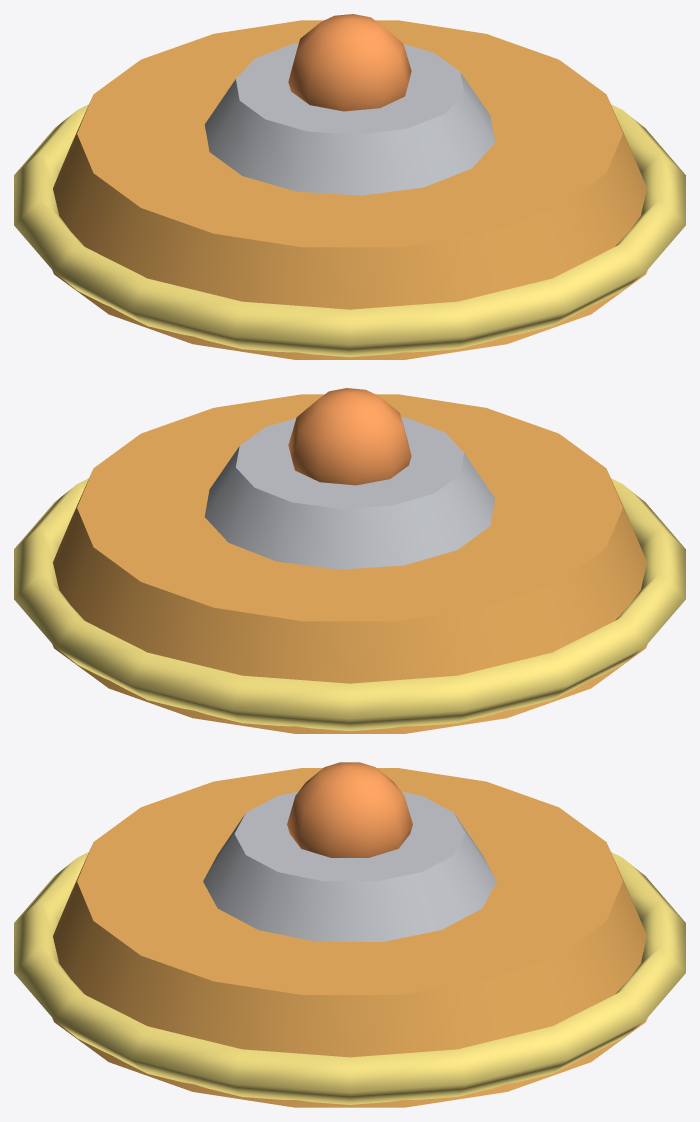
Rendered from FlameMine.fbx.
3 renders of one model, top to bottom at view 1: azimuth 30°, elevation 25°; view 2: azimuth 150°, elevation 25°; view 3: azimuth 270°, elevation 25°, orthographic.
Parts seen in each view (by area): view 1: flame_mine; view 2: flame_mine; view 3: flame_mine.
Part boxes in pixels (bbox=[...]): flame_mine: bbox=[14, 14, 685, 359]; flame_mine: bbox=[14, 388, 685, 733]; flame_mine: bbox=[14, 762, 685, 1107].
Bounding box in the file's own units: 0.65 × 0.22 × 0.6401.
